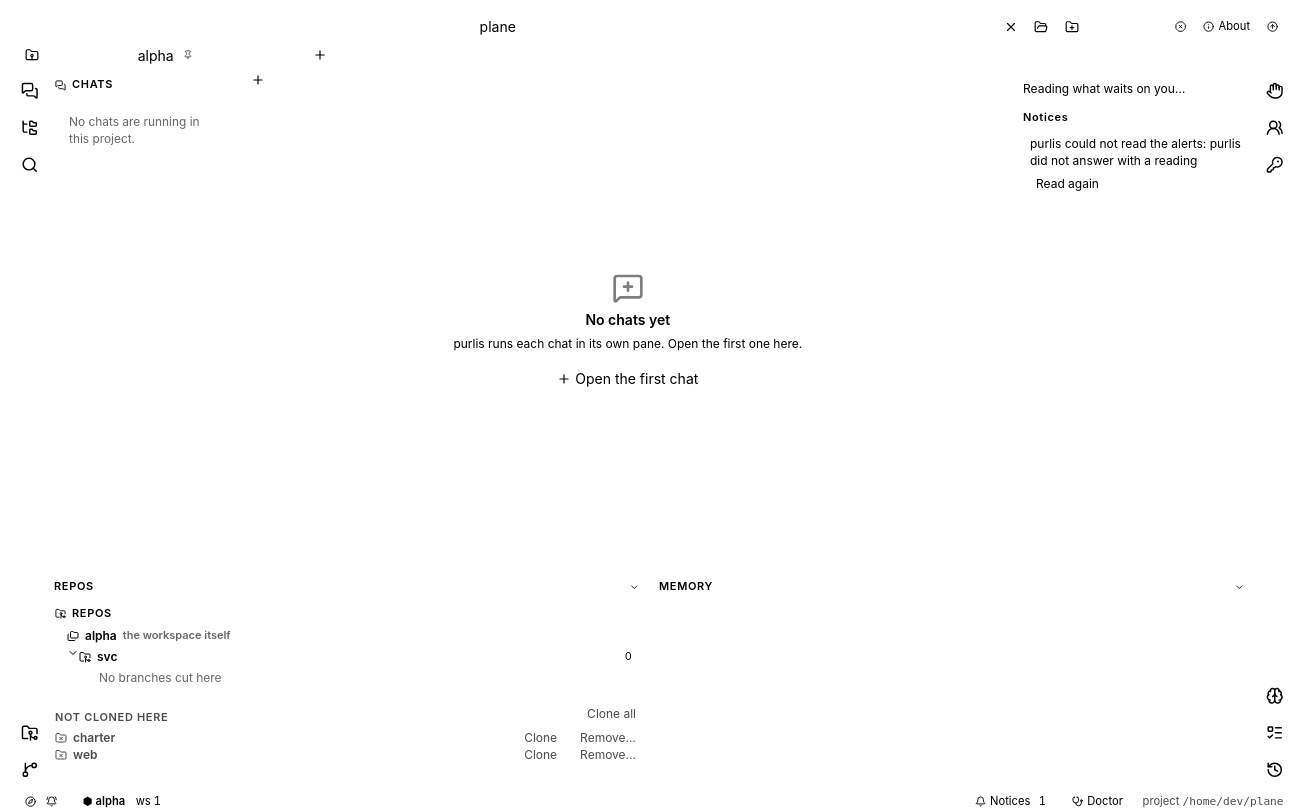
every repo that is not cloned here › has Clone all on the heading, which clones each in turn
This screenshot has width=1304, height=812.
Click the tab named "Explorer" at (30, 128), box x1=12 y1=110 x2=47 y2=145
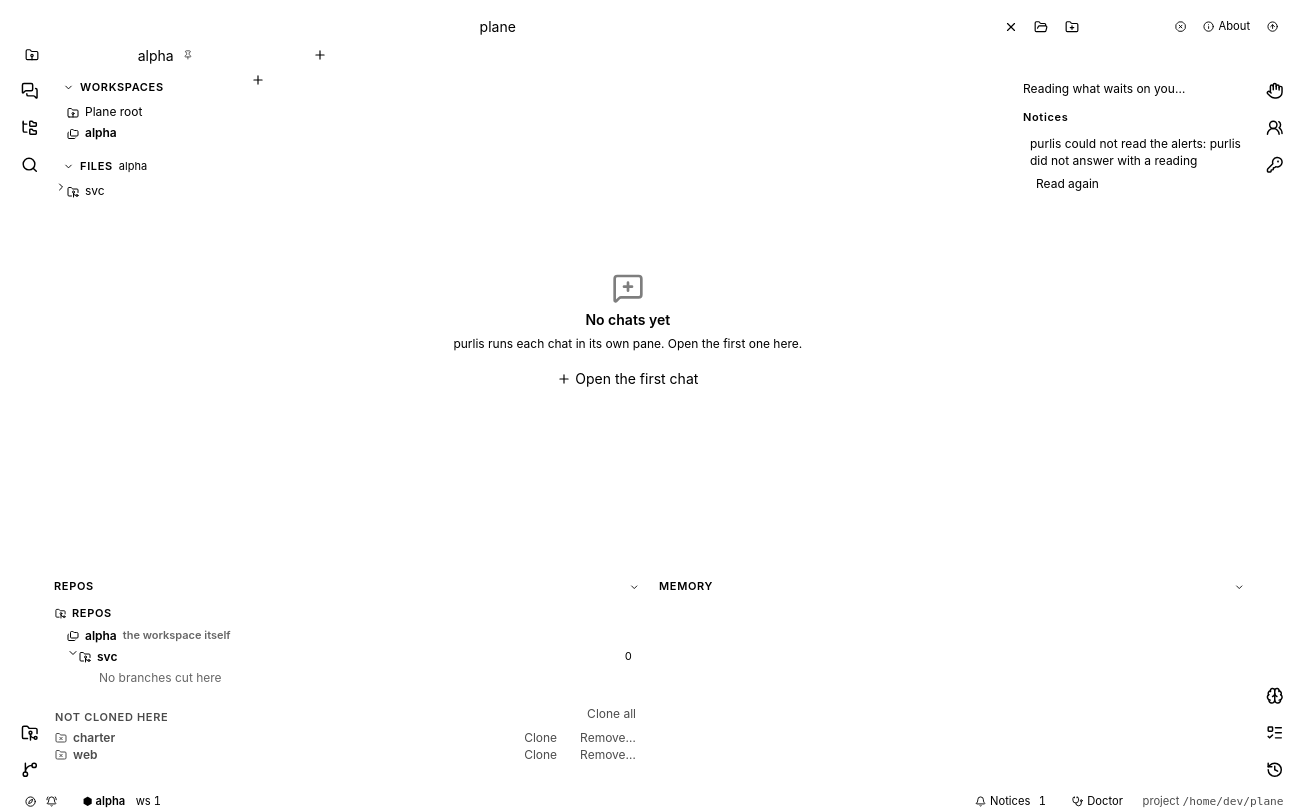
Click the button "Clone all" at (612, 714), box x1=579 y1=706 x2=644 y2=722
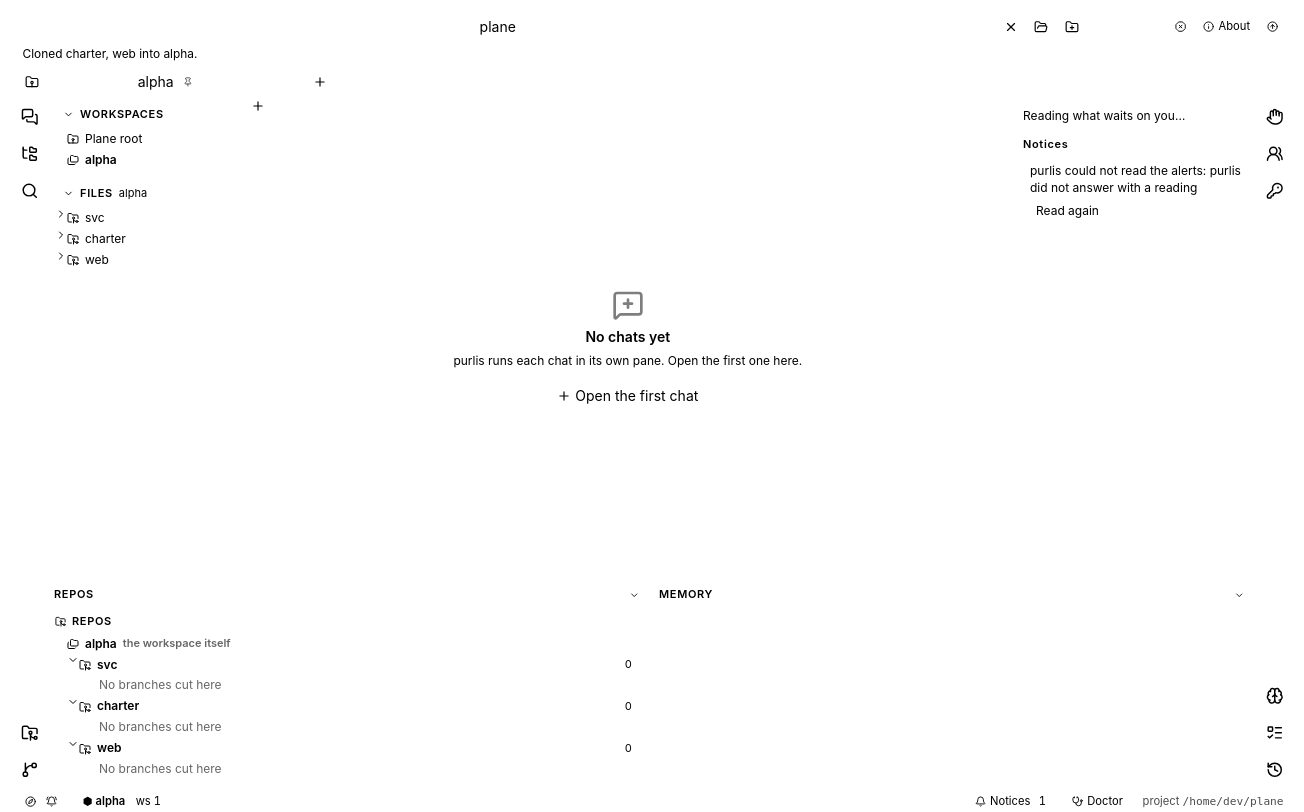
Result: the element with test id "clone-web" is shown at x1=55 y1=738 x2=644 y2=778
Result: the element with test id "clone-charter" is shown at x1=55 y1=696 x2=644 y2=736
Result: the element with test id "absent" is gone
